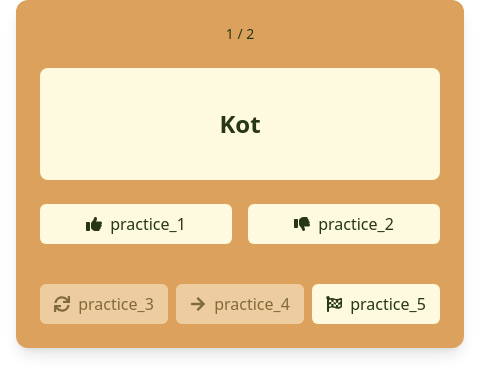
Test case: Practice Component › flips the card to show translation
expect the text "Kot" is shown: met, box x1=40 y1=68 x2=440 y2=180
Click the button with test id "answer-correct" at (136, 224), box x1=40 y1=204 x2=232 y2=244
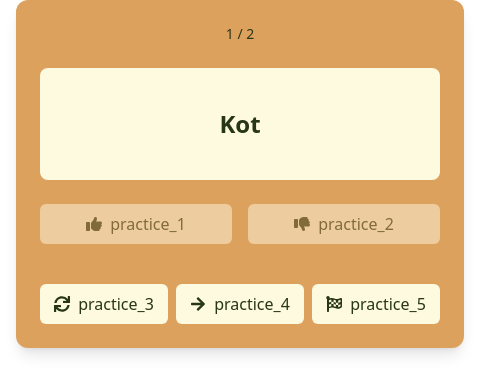
Click the button with test id "flip-button" at (104, 304), box x1=40 y1=284 x2=168 y2=324
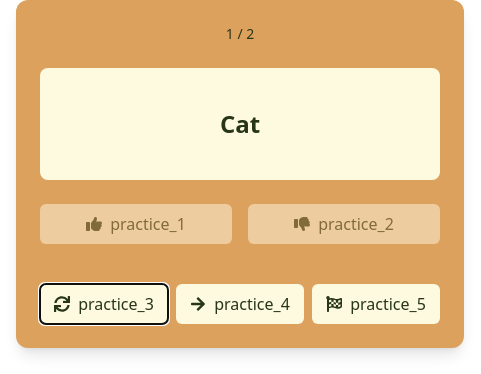
expect the text with test id "flashcard-display" reads "Cat": met, box x1=220 y1=107 x2=260 y2=140
